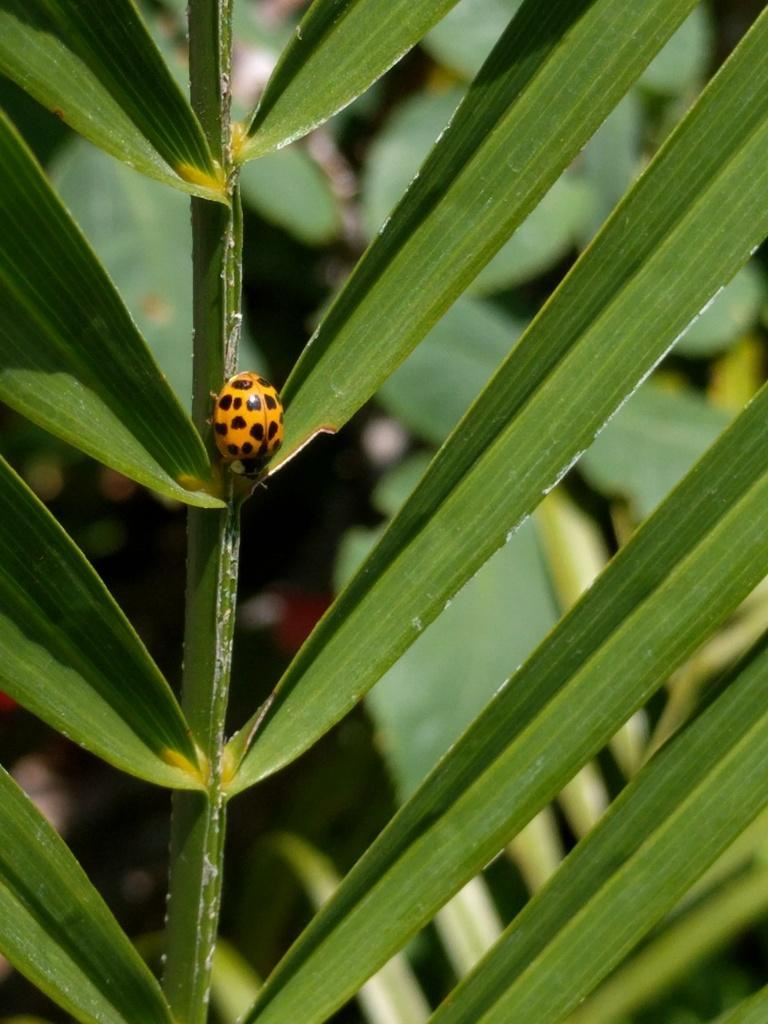ladybug: (209, 370, 288, 495)
